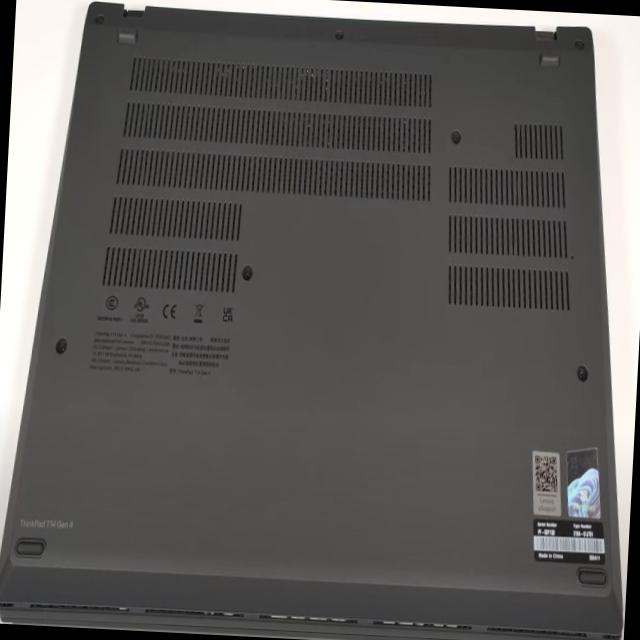outerscrew: (51, 330, 69, 362), (574, 361, 592, 392), (240, 258, 255, 285), (448, 128, 466, 150)
